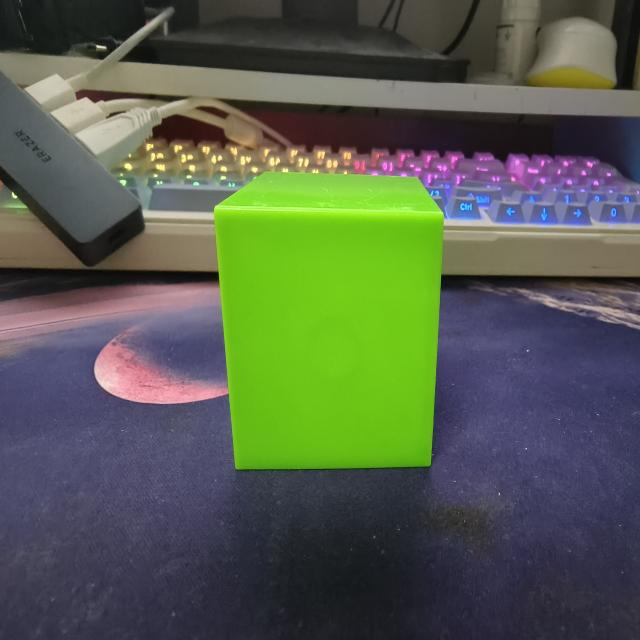green: (211, 172, 445, 473)
